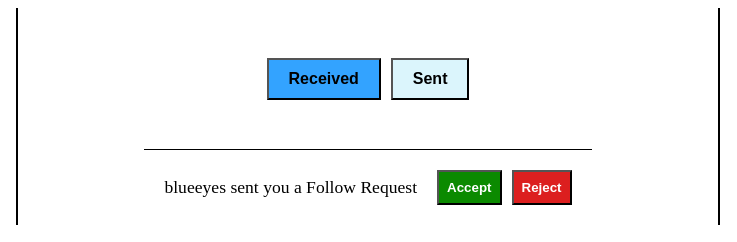
Test: User Requests › Renders Normal Page Properly
The width and height of the screenshot is (737, 242).
Check: the button "Accept" is shown, box [437,170,502,205]
Check: the button "Reject" is shown, box [512,170,572,205]
Click the button "Sent" at (430,79), box [391,58,470,100]
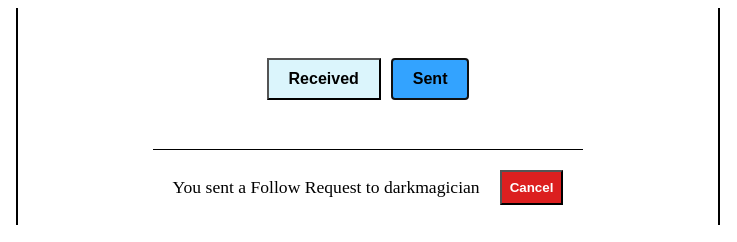
Check: the button "Cancel" is shown, box [500,170,563,205]
